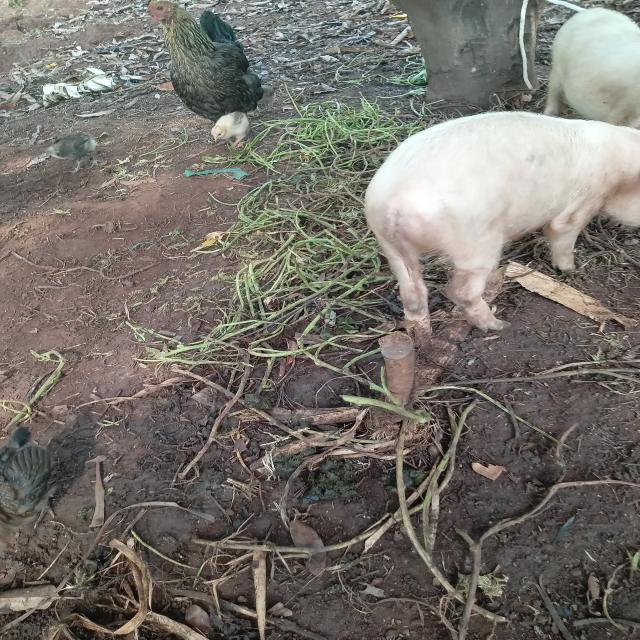pig: (322, 65, 640, 368)
